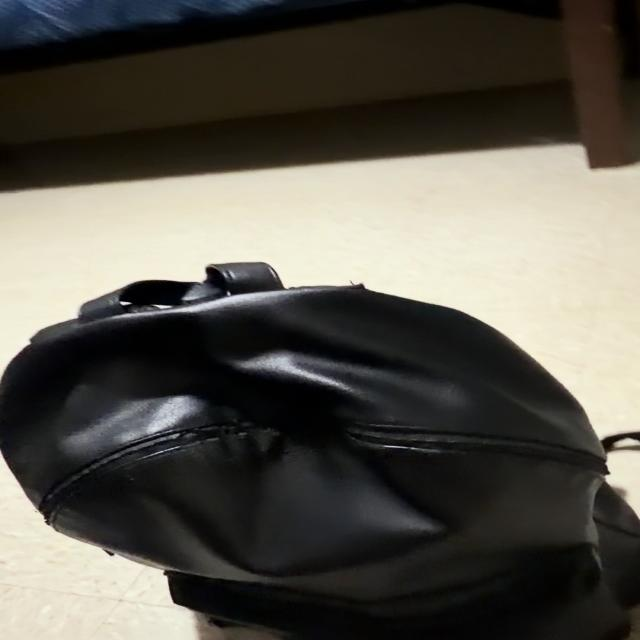backpack: (0, 263, 639, 639), (605, 438, 616, 447), (634, 434, 638, 435), (627, 434, 628, 435), (618, 437, 621, 437)
